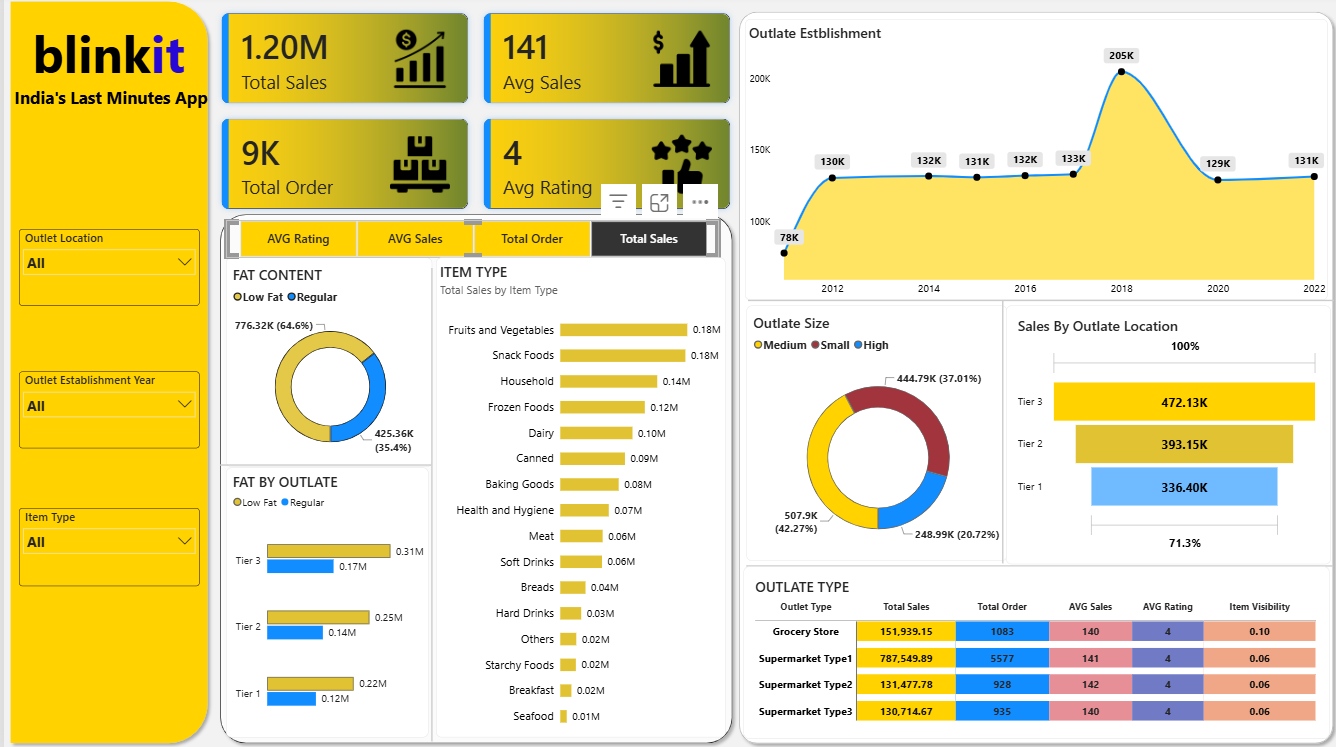

Layout of this report page (visuals, bound fields, positions):
{"tool":"powerbi","page":{"name":"Page 1","canvas":[1920,1080],"ordinal":0},"visuals":[{"type":"shape","box":[0,0,300.8,1080.7],"z":0},{"type":"textbox","box":[0,34.2,300.1,197.6],"z":1000},{"type":"cardVisual","fields":{"Data":["BlinkIT Grocery Data.Total Sales","BlinkIT Grocery Data.AVG Sales","BlinkIT Grocery Data.Total Order","BlinkIT Grocery Data.AVG Rating"]},"box":[300.1,14,751.5,302],"z":2000},{"type":"shape","box":[300.1,305,751.5,775.9],"z":3000},{"type":"donutChart","title":"FAT CONTENT","fields":{"Y":["BlinkIT Grocery Data.Total Sales"],"Category":["BlinkIT Grocery Data.Item Fat Content"]},"box":[317.2,375.7,295.2,300.1],"z":4000},{"type":"slicer","fields":{"Values":["MATRICS.MATRICS"]},"box":[317.2,322.1,707.5,53.7],"z":5000},{"type":"clusteredBarChart","title":"FAT BY OUTLATE","fields":{"Y":["BlinkIT Grocery Data.Total Sales"],"Category":["BlinkIT Grocery Data.Outlet Location Type"],"Series":["BlinkIT Grocery Data.Item Fat Content"]},"box":[318,676.8,290.1,386.7],"z":6000},{"type":"shape","box":[309.9,649,302.5,48.8],"z":7000},{"type":"shape","box":[607.5,390.4,9.8,678.3],"z":8000},{"type":"barChart","title":"ITEM TYPE","fields":{"Y":["BlinkIT Grocery Data.Total Sales"],"Category":["BlinkIT Grocery Data.Item Type"]},"box":[618.8,376,414.7,687.5],"z":9000},{"type":"textbox","box":[1061,14,751,302],"z":10000},{"type":"shape","box":[1044.2,14.6,868.6,1066.2],"z":11000},{"type":"lineChart","title":"Outlate Estblishment","fields":{"Y":["BlinkIT Grocery Data.Total Sales"],"Category":["BlinkIT Grocery Data.Outlet Establishment Year"]},"box":[1061.3,34.2,834.4,402.6],"z":12000},{"type":"shape","box":[1066.2,407.4,839.3,58.6],"z":13000},{"type":"donutChart","title":"Outlate Size","fields":{"Y":["BlinkIT Grocery Data.Total Sales"],"Category":["BlinkIT Grocery Data.Outlet Size"]},"box":[1064,444,373.3,366],"z":14000},{"type":"shape","box":[1424.9,439.2,12.2,375.7],"z":15000},{"type":"shape","box":[1063.8,788.1,839.3,58.6],"z":16000},{"type":"funnel","title":"Sales By Outlate Location ","fields":{"Category":["BlinkIT Grocery Data.Outlet Location Type"],"Y":["Sum(BlinkIT Grocery Data.Sales)"]},"box":[1435,444,465,370.9],"z":17000},{"type":"pivotTable","title":"OUTLATE TYPE","fields":{"Rows":["BlinkIT Grocery Data.Outlet Type"],"Values":["BlinkIT Grocery Data.Total Sales","BlinkIT Grocery Data.Total Order","BlinkIT Grocery Data.AVG Sales","BlinkIT Grocery Data.AVG Rating","Avg(BlinkIT Grocery Data.Item Visibility)"]},"box":[1059,819,839.3,246.4],"z":18000},{"type":"slicer","fields":{"Values":["BlinkIT Grocery Data.Outlet Location Type"]},"box":[22,334.3,258.6,109.8],"z":20000},{"type":"slicer","fields":{"Values":["BlinkIT Grocery Data.Outlet Establishment Year"]},"box":[22,539.2,258.6,109.8],"z":21000},{"type":"slicer","fields":{"Values":["BlinkIT Grocery Data.Item Type"]},"box":[22,734.4,258.6,112.2],"z":22000}]}

Visuals, with their boxes in screenshot pixels (x1, y1, x2, y2), scaled from the page's 1920x1080 canvas onto the 1336x747 screenshot:
shape: bbox=(0, 0, 209, 746)
textbox: bbox=(0, 24, 209, 160)
cardVisual - BlinkIT Grocery Data.Total Sales x BlinkIT Grocery Data.AVG Sales: bbox=(209, 10, 732, 219)
shape: bbox=(209, 211, 732, 746)
"FAT CONTENT" donutChart: bbox=(221, 260, 426, 467)
slicer - MATRICS.MATRICS: bbox=(221, 223, 713, 260)
"FAT BY OUTLATE" clusteredBarChart: bbox=(221, 468, 423, 736)
shape: bbox=(216, 449, 426, 483)
shape: bbox=(423, 270, 430, 739)
"ITEM TYPE" barChart: bbox=(431, 260, 719, 736)
textbox: bbox=(738, 10, 1261, 219)
shape: bbox=(727, 10, 1331, 746)
"Outlate Estblishment" lineChart: bbox=(738, 24, 1319, 302)
shape: bbox=(742, 282, 1326, 322)
"Outlate Size" donutChart: bbox=(740, 307, 1000, 560)
shape: bbox=(991, 304, 1000, 564)
shape: bbox=(740, 545, 1324, 586)
"Sales By Outlate Location " funnel: bbox=(999, 307, 1322, 564)
"OUTLATE TYPE" pivotTable: bbox=(737, 566, 1321, 737)
slicer - BlinkIT Grocery Data.Outlet Location Type: bbox=(15, 231, 195, 307)
slicer - BlinkIT Grocery Data.Outlet Establishment Year: bbox=(15, 373, 195, 449)
slicer - BlinkIT Grocery Data.Item Type: bbox=(15, 508, 195, 586)
